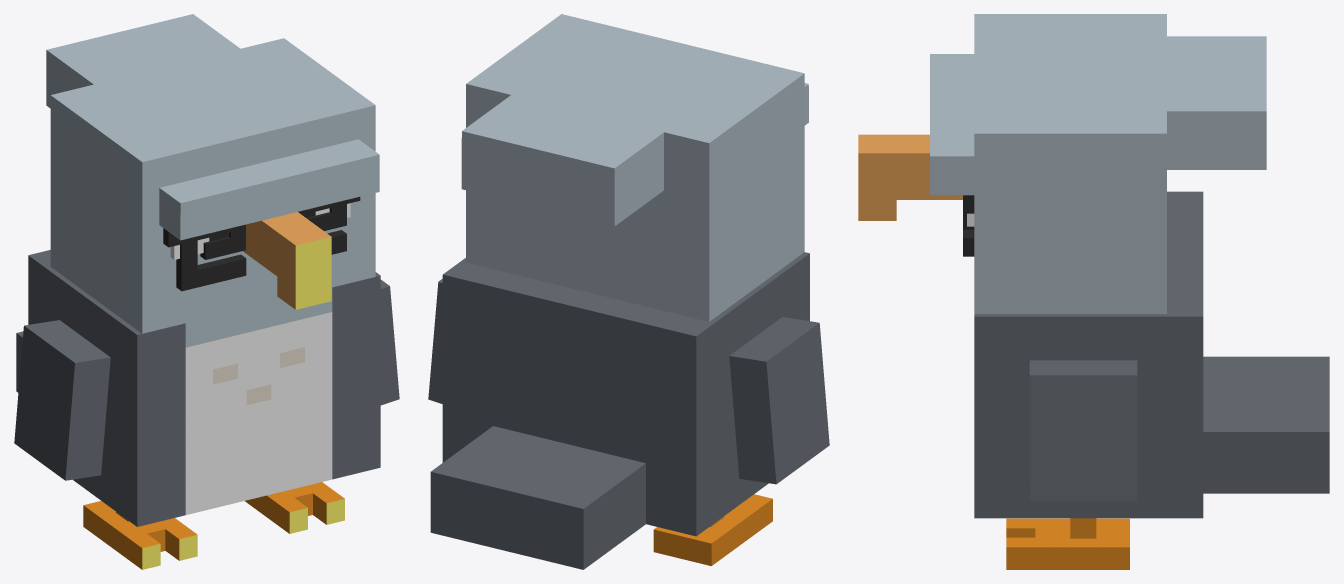
3 renders of one model, left to right at view 1: azimuth 30°, elevation 25°; view 2: azimuth 150°, elevation 25°; view 3: azimuth 270°, elevation 25°, orthographic. The views are drawn at different scales.
Visible parts, largest first — view 1: Ch_21_Head, Ch_21, Ch_21_Wing_L, Ch_21_Leg_L, Ch_21_Leg_R, Ch_21_Eye_03_L, Ch_21_Wing_R, Ch_21_Eye_03_R, Ch_21_Eye_02, Ch_21_Eye_01; view 2: Ch_21_Head, Ch_21, Ch_21_Wing_L, Ch_21_Leg_L, Ch_21_Wing_R; view 3: Ch_21_Head, Ch_21, Ch_21_Wing_R, Ch_21_Leg_R.
Boxes of the visible parts, <box> form: Ch_21_Head: <box>46,14,379,333</box>; Ch_21: <box>16,250,380,526</box>; Ch_21_Wing_L: <box>14,320,110,480</box>; Ch_21_Leg_L: <box>83,501,197,569</box>; Ch_21_Leg_R: <box>245,482,344,533</box>; Ch_21_Eye_03_L: <box>176,225,246,291</box>; Ch_21_Wing_R: <box>380,279,399,405</box>; Ch_21_Eye_03_R: <box>306,200,346,254</box>; Ch_21_Eye_02: <box>163,196,360,247</box>; Ch_21_Eye_01: <box>170,203,350,259</box>; Ch_21_Head: <box>461,14,808,321</box>; Ch_21: <box>430,252,809,569</box>; Ch_21_Wing_L: <box>729,317,829,484</box>; Ch_21_Leg_L: <box>653,494,772,565</box>; Ch_21_Wing_R: <box>428,279,442,403</box>; Ch_21_Head: <box>858,14,1266,313</box>; Ch_21: <box>974,191,1329,518</box>; Ch_21_Wing_R: <box>1029,360,1137,501</box>; Ch_21_Leg_R: <box>1006,518,1129,569</box>.
Size of the model in its own units: 8.64 by 10.43 by 10.03.
